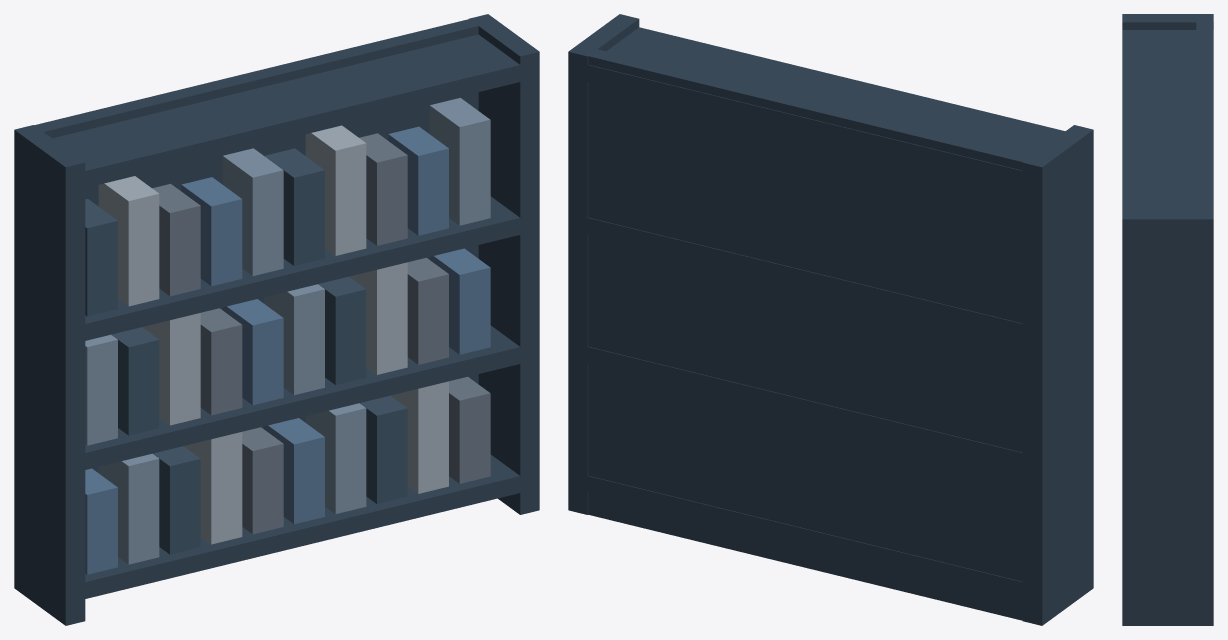
File: estante_com_livros.glb
3 renders of one model, left to right at view 1: azimuth 30°, elevation 25°; view 2: azimuth 150°, elevation 25°; view 3: azimuth 270°, elevation 25°, orthographic. The views are drawn at different scales.
Parts seen in each view (by area): view 1: _MeshInstance3D_577, _MeshInstance3D_581, _MeshInstance3D_578, Estante, _MeshInstance3D_580, _MeshInstance3D_579, Prateleira, Livro64, Livro54, Livro52, Livro62, Livro22 (+25 smaller); view 2: Estante, _MeshInstance3D_577, _MeshInstance3D_581, _MeshInstance3D_578, _MeshInstance3D_579, Prateleira, _MeshInstance3D_580; view 3: _MeshInstance3D_578, _MeshInstance3D_581, Estante, _MeshInstance3D_577.
Boxes of the visible parts, left/top/right/bottom form: _MeshInstance3D_577: left=14, top=125, right=85, bottom=625; _MeshInstance3D_581: left=52, top=34, right=529, bottom=190; _MeshInstance3D_578: left=469, top=14, right=539, bottom=514; Estante: left=25, top=17, right=487, bottom=472; _MeshInstance3D_580: left=76, top=196, right=529, bottom=342; _MeshInstance3D_579: left=75, top=325, right=529, bottom=471; Prateleira: left=75, top=454, right=529, bottom=598; Livro64: left=305, top=125, right=366, bottom=255; Livro54: left=98, top=176, right=159, bottom=306; Livro52: left=222, top=148, right=283, bottom=275; Livro62: left=429, top=98, right=490, bottom=225; Livro22: left=305, top=403, right=366, bottom=514; Estante: left=578, top=47, right=1041, bottom=620; _MeshInstance3D_577: left=1022, top=125, right=1093, bottom=625; _MeshInstance3D_581: left=578, top=27, right=1065, bottom=190; _MeshInstance3D_578: left=568, top=14, right=639, bottom=514; _MeshInstance3D_579: left=578, top=345, right=1032, bottom=471; Prateleira: left=578, top=474, right=1032, bottom=599; _MeshInstance3D_580: left=580, top=217, right=1032, bottom=342; _MeshInstance3D_578: left=1122, top=210, right=1213, bottom=625; _MeshInstance3D_581: left=1122, top=30, right=1213, bottom=210; Estante: left=1196, top=18, right=1212, bottom=214; _MeshInstance3D_577: left=1122, top=14, right=1213, bottom=29.
Bounding box in the file's own units: 2.92 × 2.7 × 0.55.
